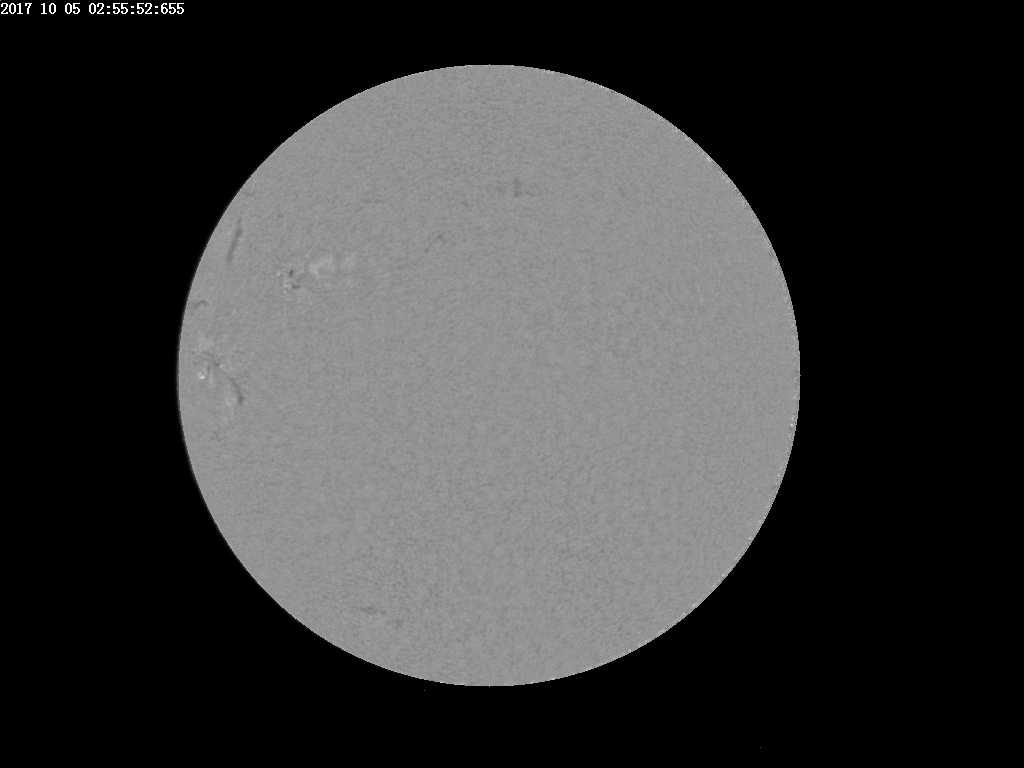filament: (202, 345, 248, 408), (354, 600, 408, 630), (279, 258, 307, 300), (419, 223, 449, 259), (501, 169, 532, 201), (185, 291, 219, 320), (227, 210, 243, 268), (356, 190, 388, 208), (611, 179, 632, 204), (270, 207, 293, 221)
